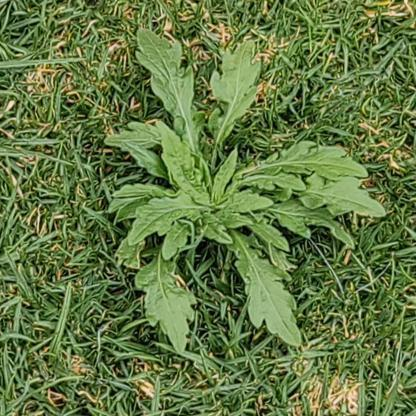Weeds: (104, 26, 386, 356)
